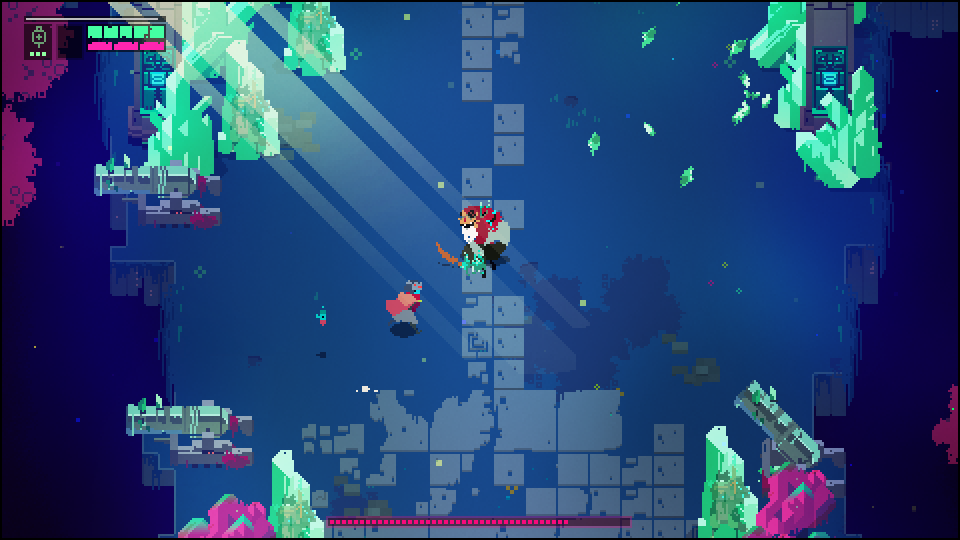hanged_man: (436, 203, 510, 272)
player: (379, 269, 427, 329)
